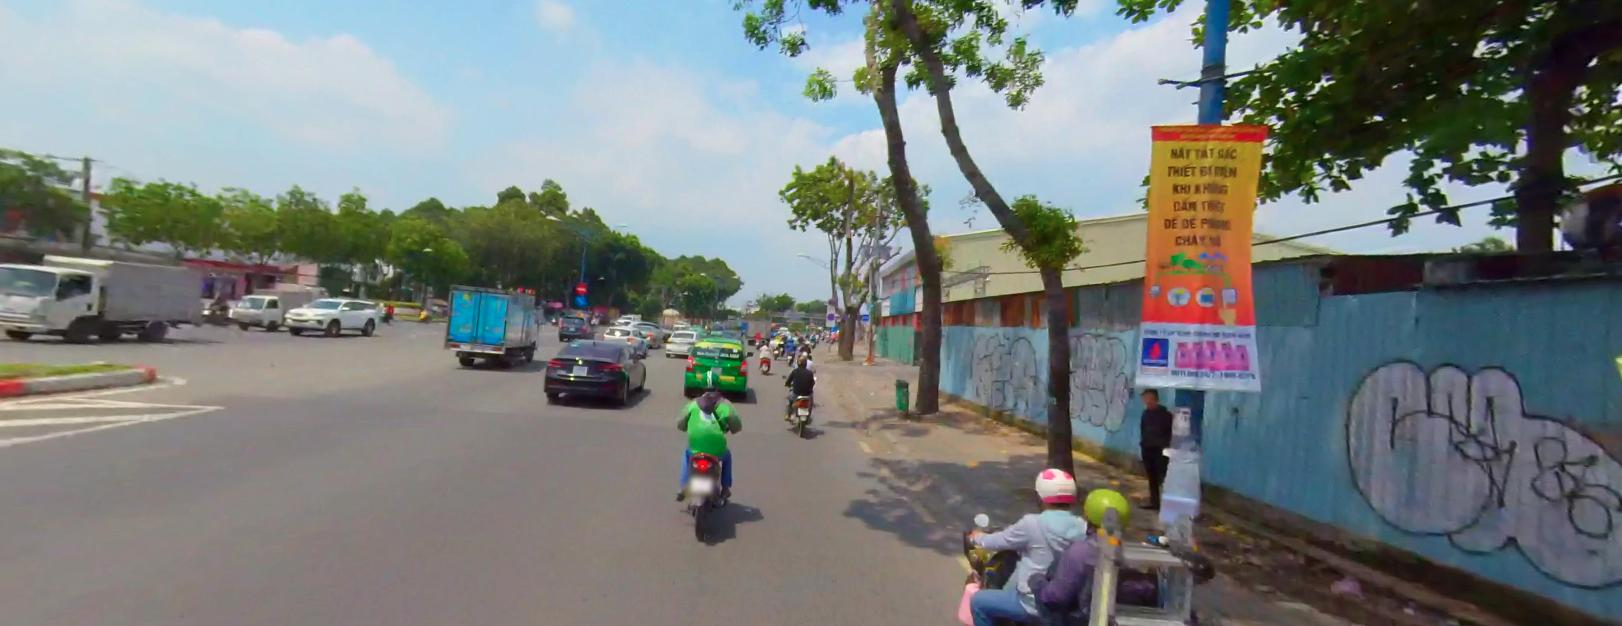Cam dung va do: (828, 297, 835, 304), (827, 311, 834, 318), (829, 297, 835, 303), (827, 312, 833, 318)
Cam nguoc chieu: (574, 280, 587, 292), (574, 281, 585, 293)
Hieu lenh: (574, 292, 587, 305), (574, 293, 588, 305)
